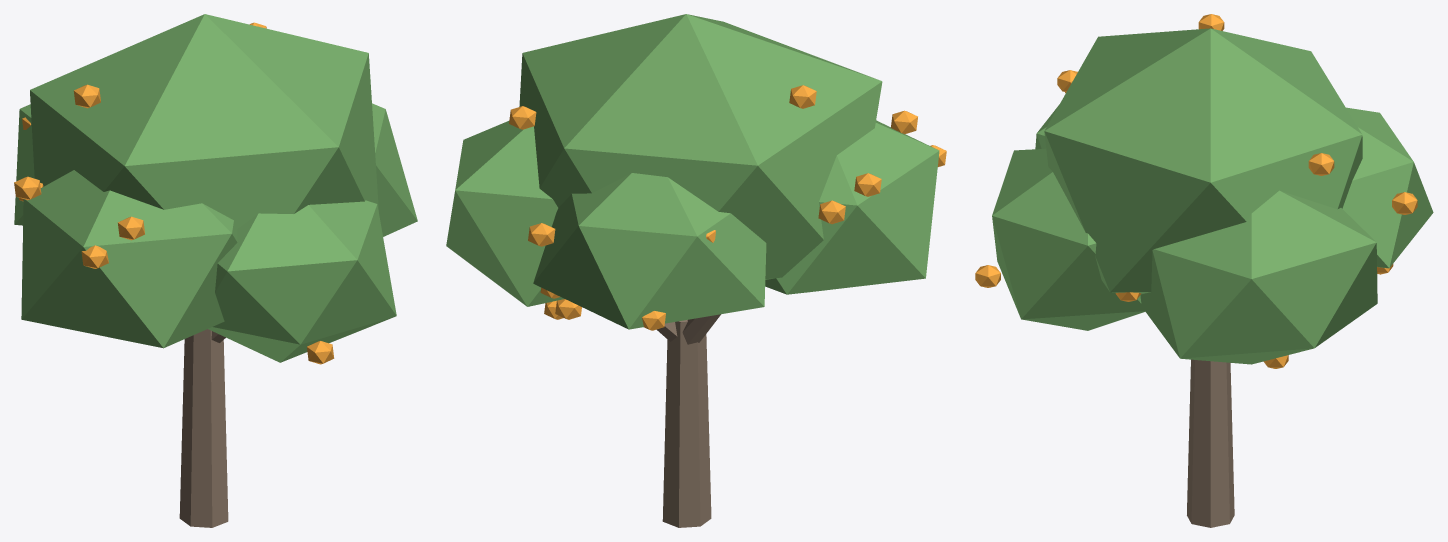
Rendered from kaki_tree.glb.
3 renders of one model, left to right at view 1: azimuth 30°, elevation 25°; view 2: azimuth 150°, elevation 25°; view 3: azimuth 270°, elevation 25°, orthographic. The views are drawn at different scales.
Parts seen in each view (by area): view 1: kaki_tree; view 2: kaki_tree; view 3: kaki_tree.
Part boxes in pixels (x1,y1,x2,y2): kaki_tree: (14, 14, 417, 527); kaki_tree: (446, 14, 946, 527); kaki_tree: (975, 14, 1433, 527).
Size of the model in its own units: 3.4 by 3.96 by 3.36.
